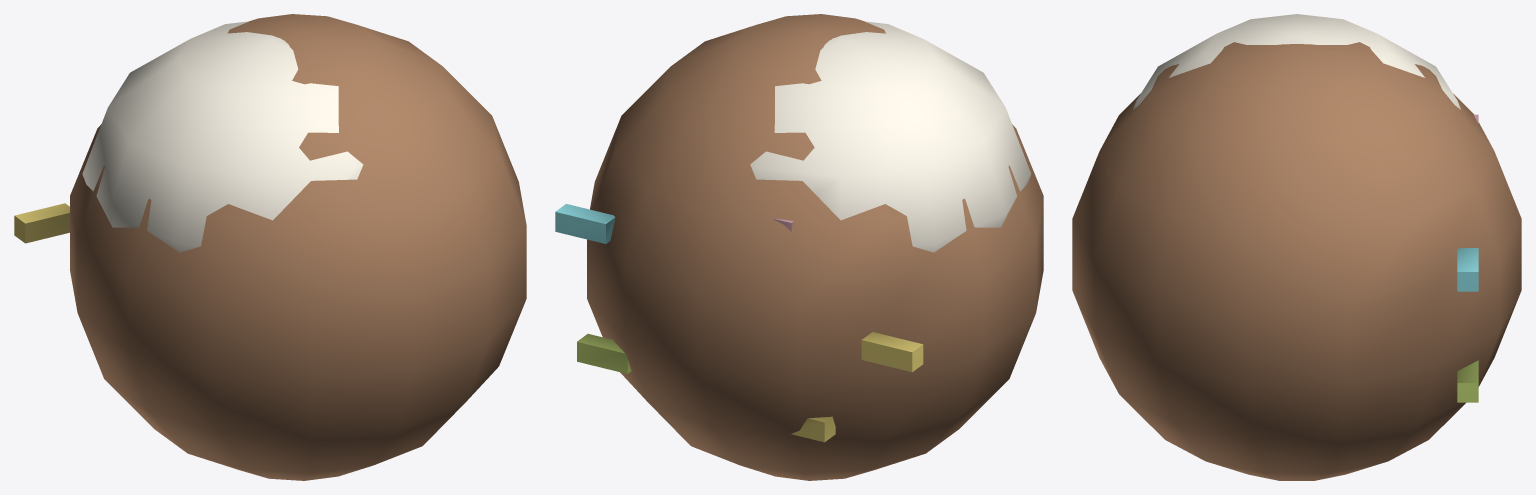
File: ChocoCannon.fbx
3 renders of one model, left to right at view 1: azimuth 30°, elevation 25°; view 2: azimuth 150°, elevation 25°; view 3: azimuth 270°, elevation 25°, orthographic. The views are drawn at different scales.
Parts seen in each view (by area): view 1: choco_ball; view 2: choco_ball; view 3: choco_ball.
Part boxes in pixels (left/top/right/bottom): choco_ball: left=14, top=14, right=526, bottom=480; choco_ball: left=555, top=14, right=1043, bottom=480; choco_ball: left=1072, top=14, right=1521, bottom=480.
Bounding box in the file's own units: 0.3072 × 0.32 × 0.3151.
